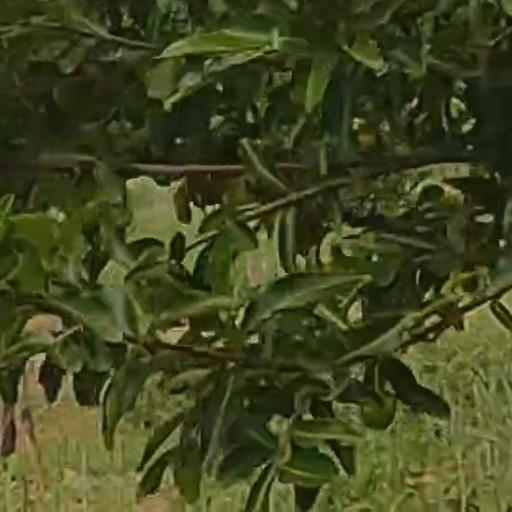acerola: (364, 392, 395, 430)
